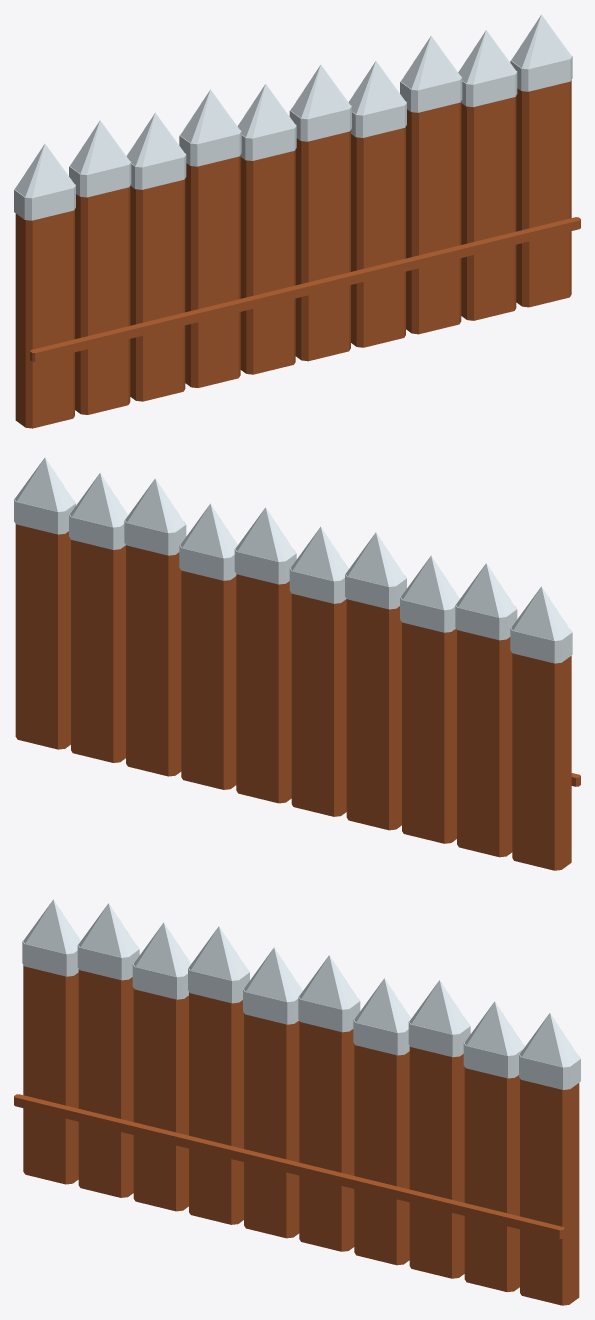
File: fence_panel.obj
3 views of the same model, one above another, from view 1: azimuth 30°, elevation 25°; view 2: azimuth 150°, elevation 25°; view 3: azimuth 330°, elevation 25° (orthographic).
Parts seen in each view (by area): view 1: fence_panel; view 2: fence_panel; view 3: fence_panel.
Part boxes in pixels (x1,y1,x2,y2): fence_panel: (14, 14, 580, 428); fence_panel: (14, 457, 580, 870); fence_panel: (14, 899, 580, 1305).
Size of the model in its own units: 2.94 by 1.48 by 0.2082.
